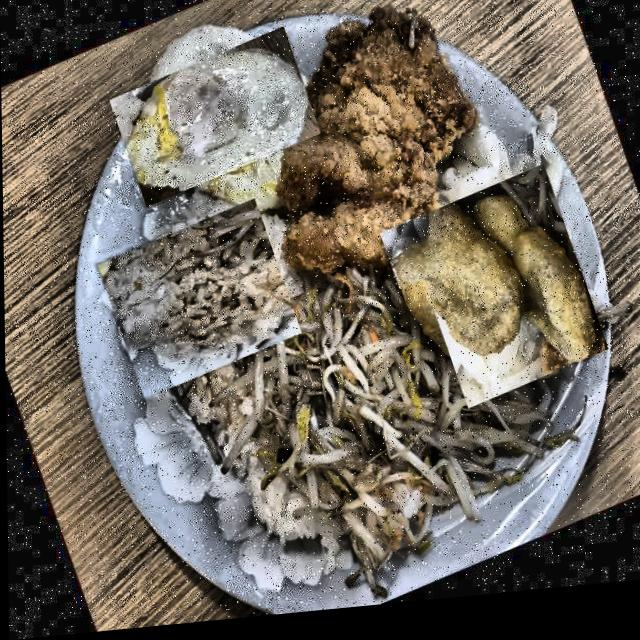Food: (216, 0, 505, 316), (245, 283, 500, 586), (377, 169, 608, 432), (100, 197, 299, 409), (119, 19, 311, 224)
